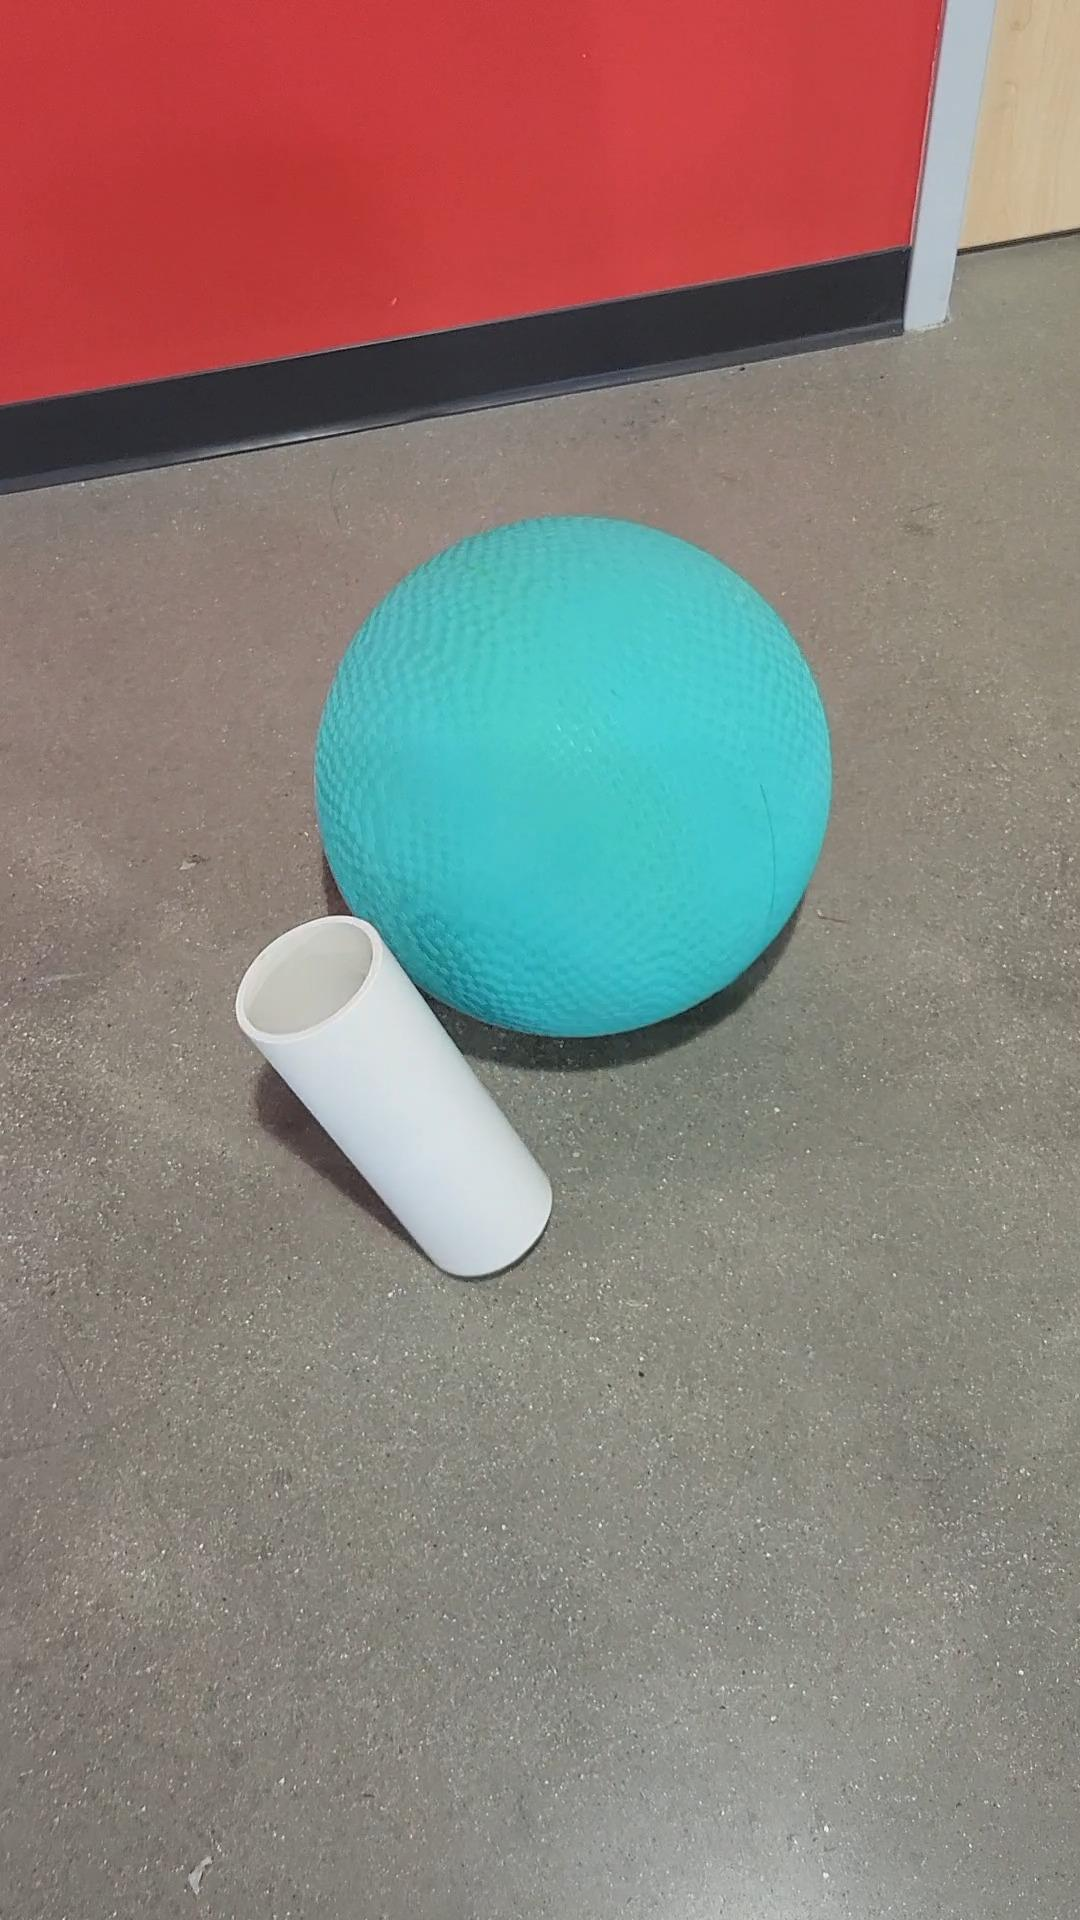algae: (295, 501, 843, 1044)
coral: (233, 913, 560, 1280)
